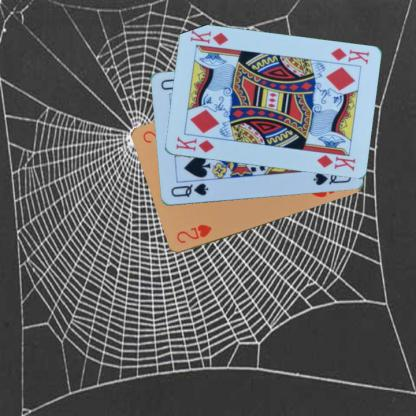2h: (174, 222, 213, 245)
Kd: (328, 45, 370, 66), (172, 134, 216, 154)
Qs: (168, 181, 210, 199)
